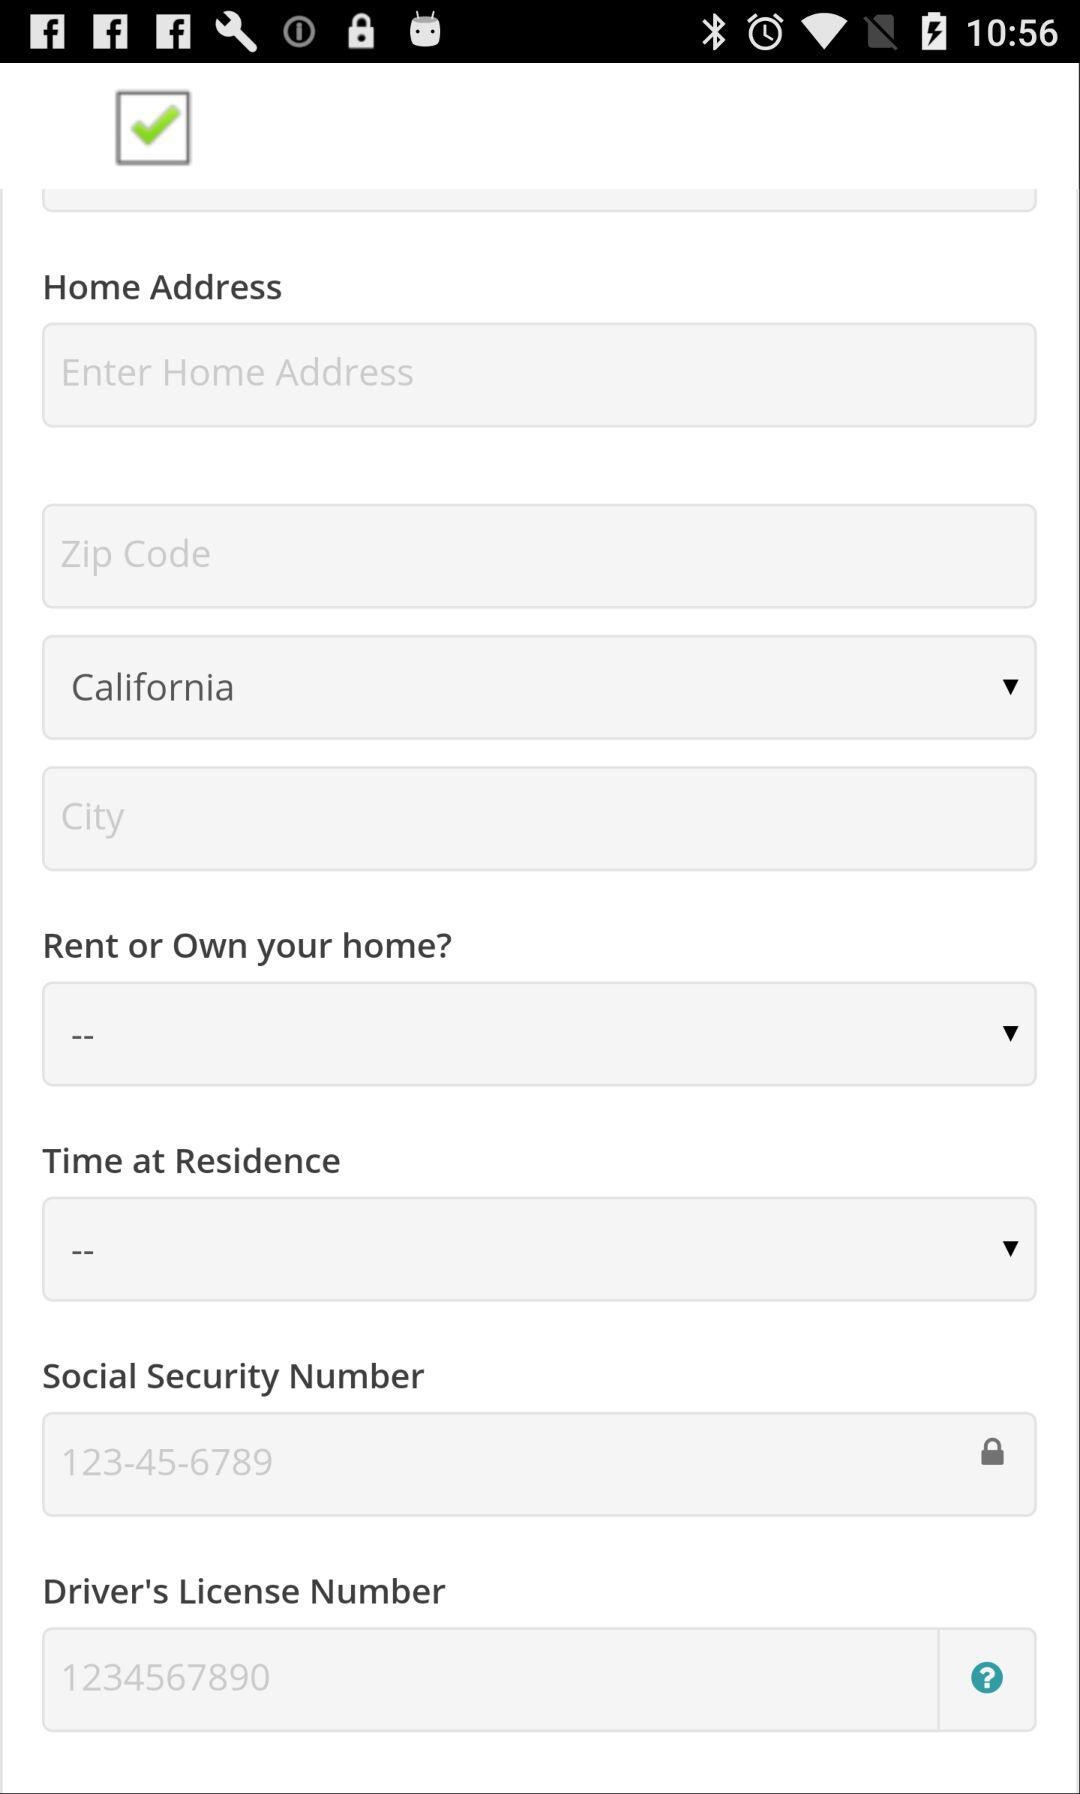EditText: (42, 322, 1038, 429), (42, 504, 1038, 611), (42, 1411, 1038, 1518), (42, 1626, 1038, 1732), (42, 766, 1038, 871)
Icon: (970, 1659, 1004, 1694), (980, 1436, 1004, 1467), (1001, 1025, 1019, 1043), (1003, 1240, 1020, 1258)
Text: (45, 930, 454, 967), (44, 1362, 425, 1398), (44, 1576, 448, 1607), (64, 356, 414, 387), (41, 1146, 342, 1175), (45, 273, 284, 302), (64, 1448, 273, 1477), (65, 1662, 270, 1691), (61, 538, 211, 577), (63, 802, 126, 841)
TextButton: (42, 634, 1038, 742), (42, 980, 1038, 1088), (42, 1196, 1038, 1303)
UpperTaskBar: (1, 1, 1080, 64)
